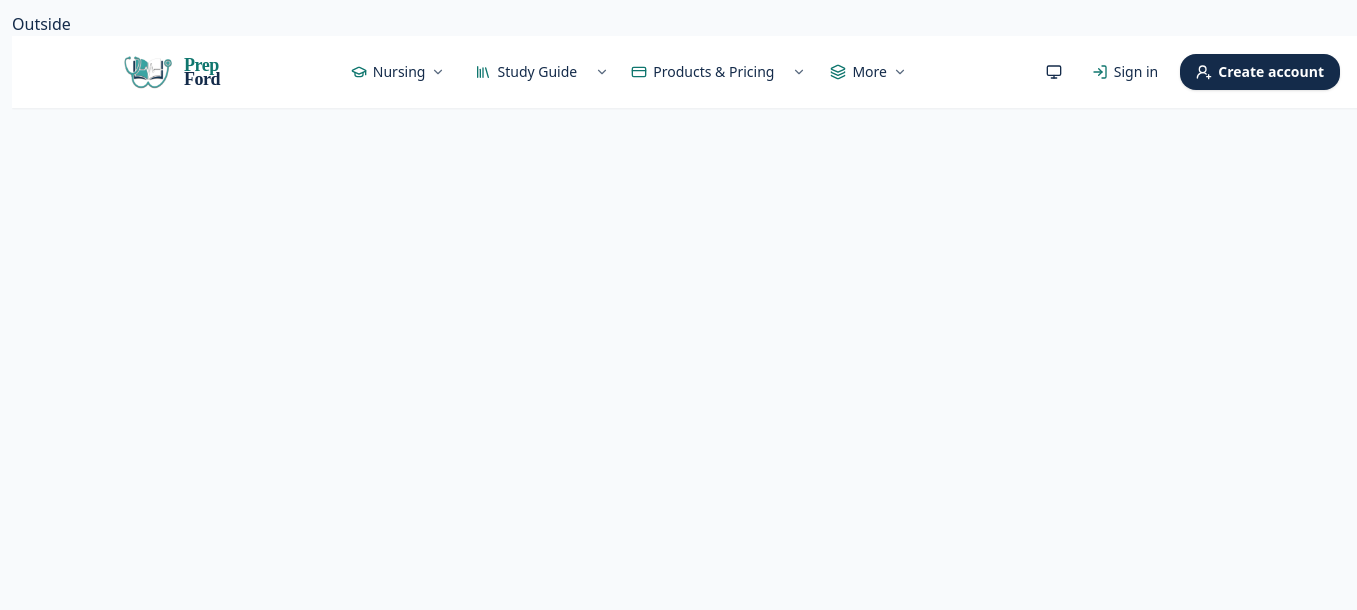
Test case: PublicHeader — 'More' Dropdown & Navigation Enhancement › closes the 'More' dropdown when clicking outside the navigation container
Click the button "More". click: (869, 72)
box: [816,54,921,90]
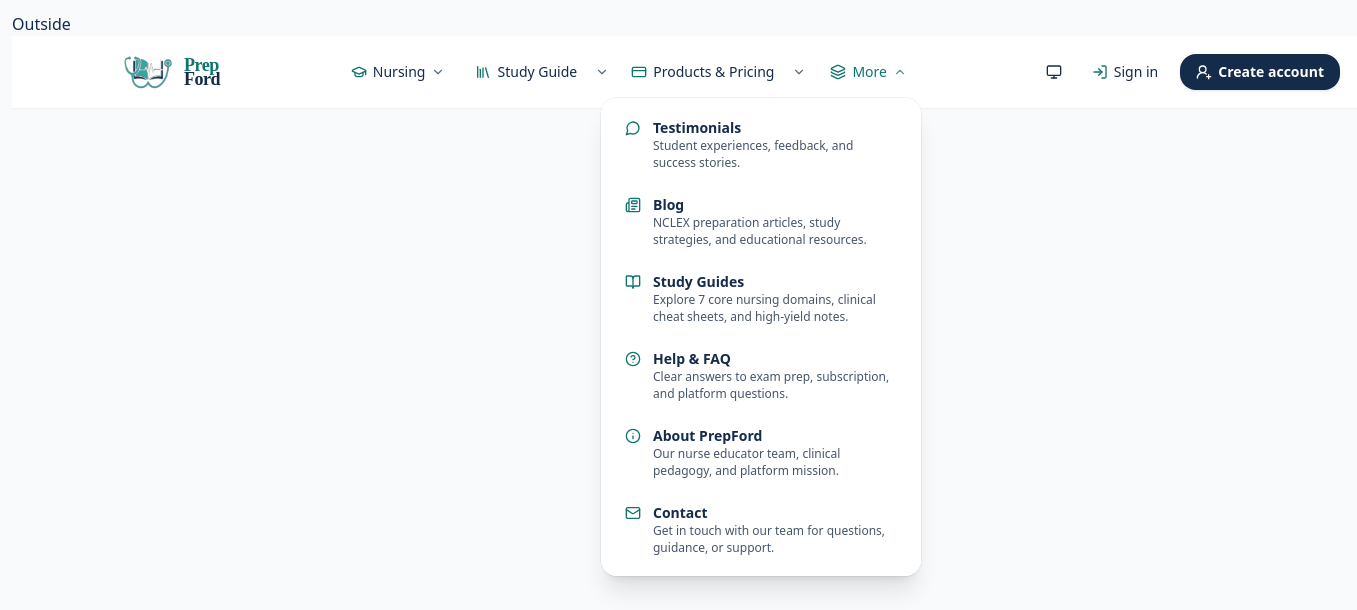
expect the button "More" is expanded: met, box [816,54,921,90]
# Click outside
Press the mouse on the text with test id "outside-element" at (41, 24), box [12,13,71,35]
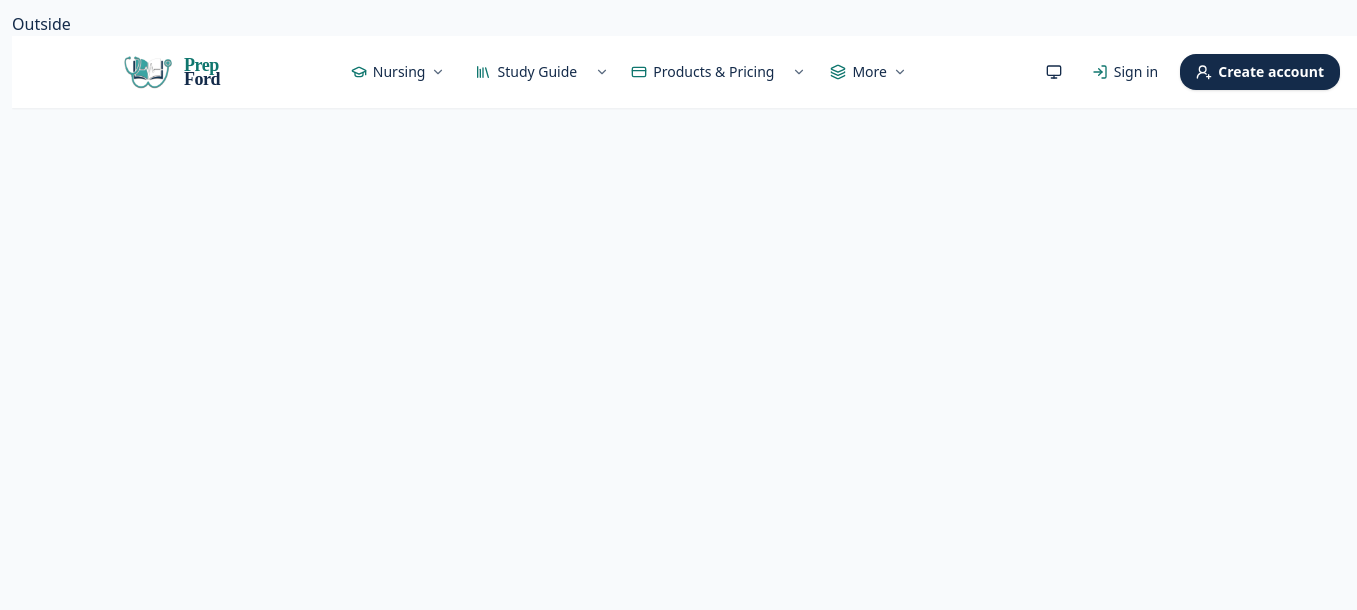
expect the button "More" is collapsed: met, box [816,54,921,90]
